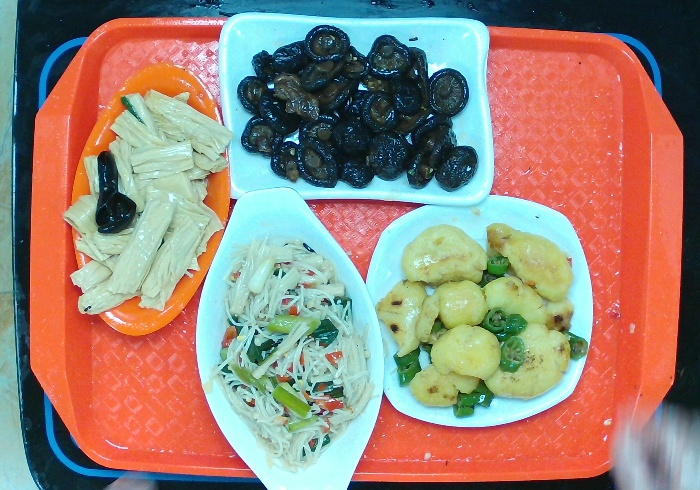RJxy-Ju_Huang_Tuo_Yuan: (65, 60, 233, 340)
RJxy-Si_Fang_Ao_Bian_Wan: (215, 9, 500, 212)
RJxy-Si_Fang_Die: (363, 194, 600, 436)
RJxy-Yu_Pan: (193, 184, 388, 490)
